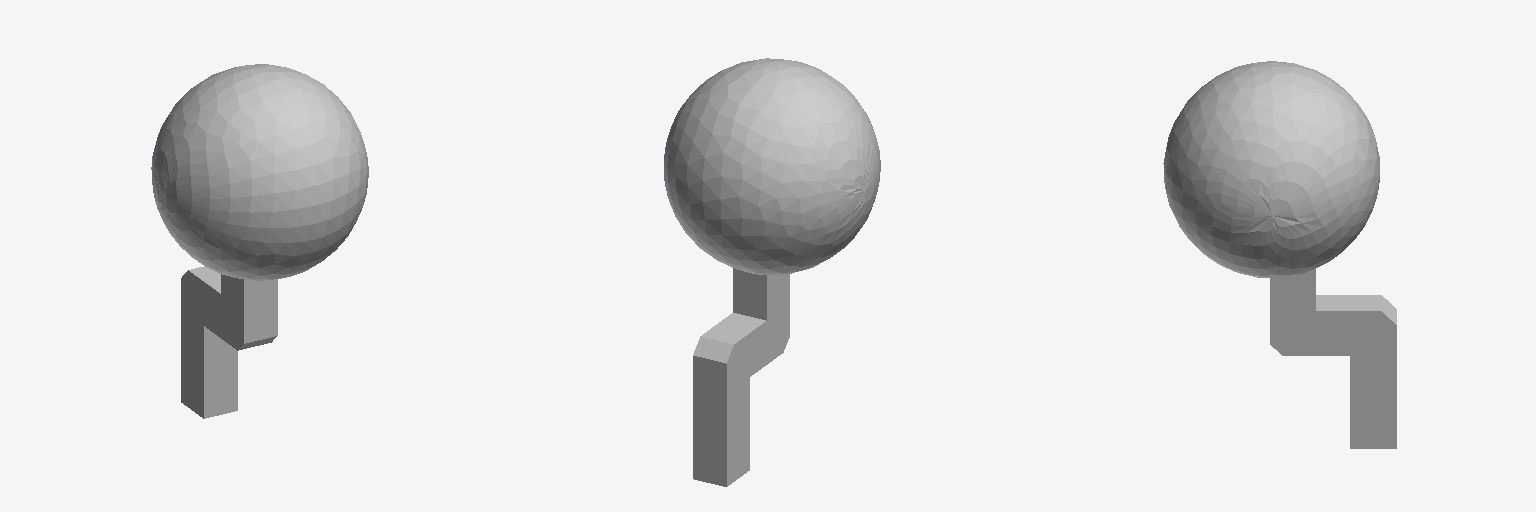
Rendered from head.obj.
The picture shows the model from 3 angles: view 1: azimuth 30°, elevation 25°; view 2: azimuth 150°, elevation 25°; view 3: azimuth 270°, elevation 25°; orthographic projection.
Parts seen in each view (by area): view 1: Drawing1; view 2: Drawing1; view 3: Drawing1.
Boxes of the visible parts, x1,y1,x2,y2 form: Drawing1: [151, 64, 368, 418]; Drawing1: [664, 58, 880, 486]; Drawing1: [1163, 61, 1396, 448].
Bounding box in the file's own units: 7.69 × 14.39 × 8.23.